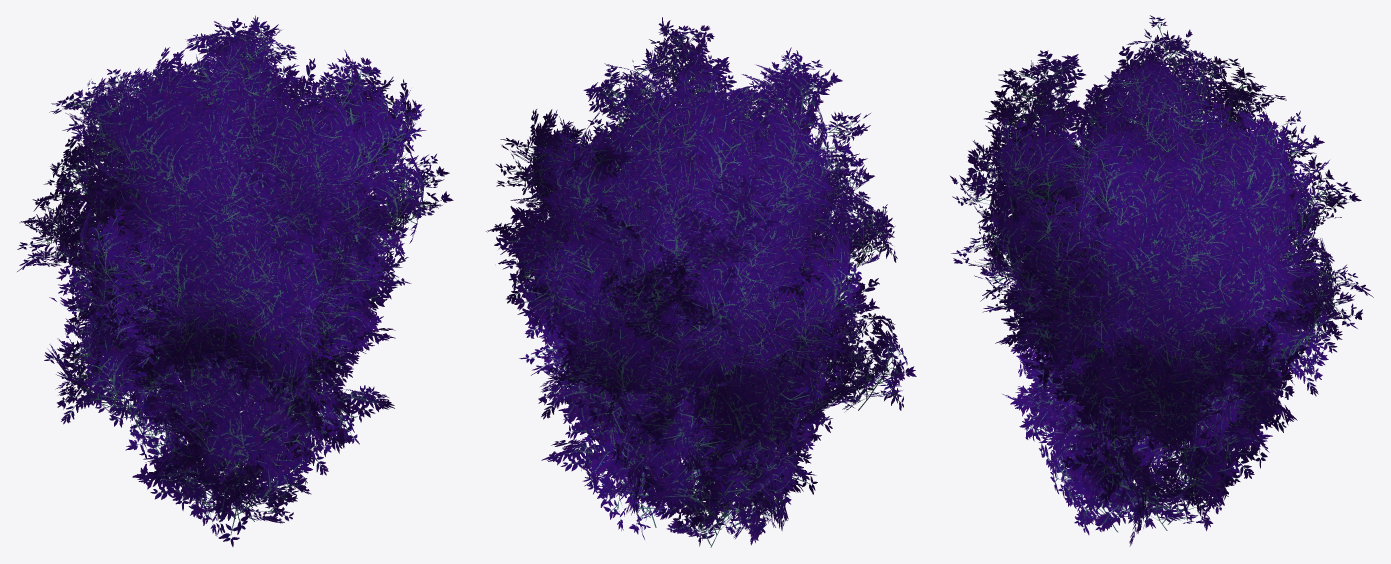
The picture shows the model from 3 angles, left to right: view 1: azimuth 30°, elevation 25°; view 2: azimuth 150°, elevation 25°; view 3: azimuth 270°, elevation 25°; orthographic projection.
Visible parts, largest first — view 1: SM_GF_Ash_Canopy_02_LOD0; view 2: SM_GF_Ash_Canopy_02_LOD0; view 3: SM_GF_Ash_Canopy_02_LOD0.
Part boxes in pixels (bbox=[...]): SM_GF_Ash_Canopy_02_LOD0: bbox=[17, 15, 453, 546]; SM_GF_Ash_Canopy_02_LOD0: bbox=[486, 17, 916, 547]; SM_GF_Ash_Canopy_02_LOD0: bbox=[950, 15, 1373, 546].
Size of the model in its own units: 9.24 by 11.05 by 9.14.
Materials: 1 (1 with a texture image).
